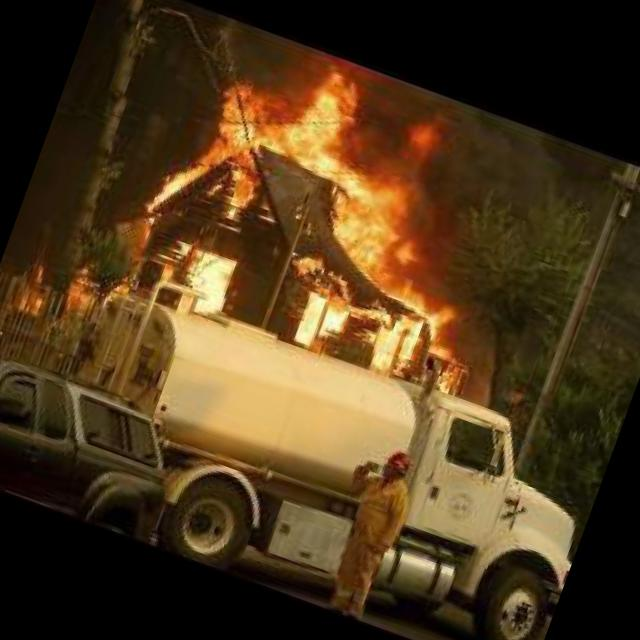fire: (110, 17, 556, 408)
